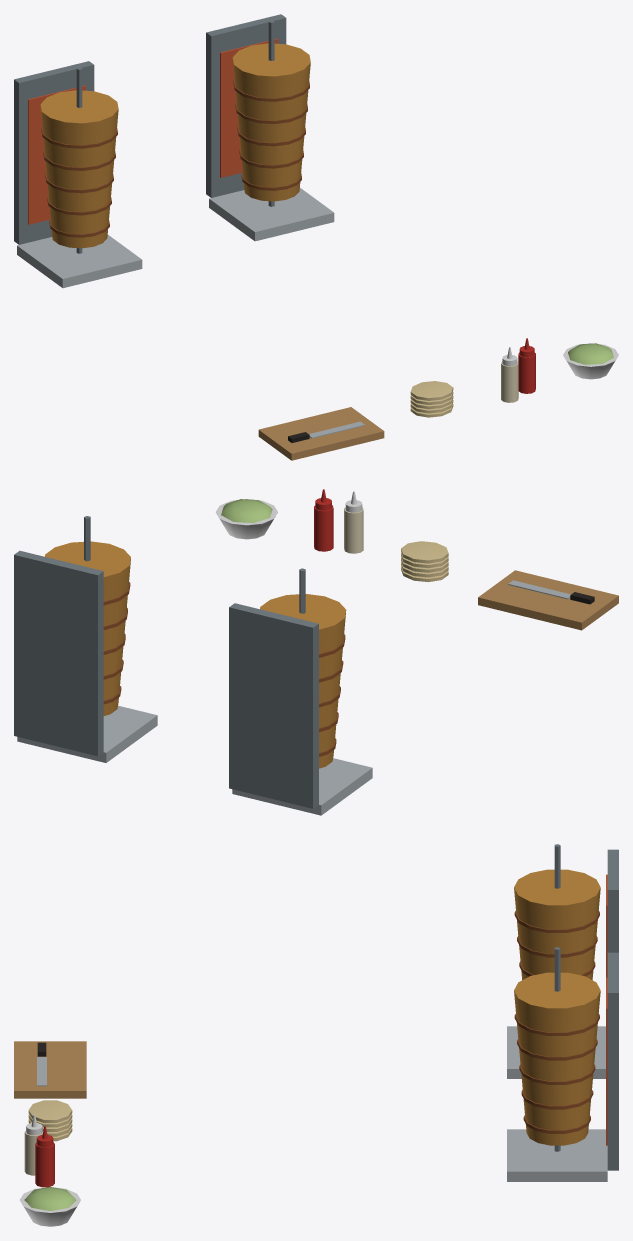
The model's file is goods_kebab.glb.
3 views of the same model, one above another, from view 1: azimuth 30°, elevation 25°; view 2: azimuth 150°, elevation 25°; view 3: azimuth 270°, elevation 25° (orthographic). The views are drawn at different scales.
Visible parts, largest first — view 1: goods_kebab; view 2: goods_kebab; view 3: goods_kebab.
Part boxes in pixels (x1=…): goods_kebab: x1=14, y1=14, x2=618, y2=460; goods_kebab: x1=14, y1=489, x2=618, y2=815; goods_kebab: x1=14, y1=844, x2=618, y2=1226.
Size of the model in its own units: 1.56 by 0.8788 by 2.16.
